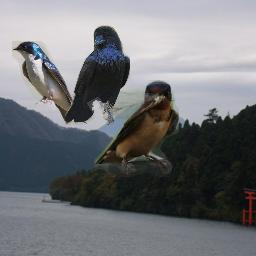Crow: (65, 25, 130, 125)
Swallow: (94, 80, 179, 177), (12, 41, 87, 125)
